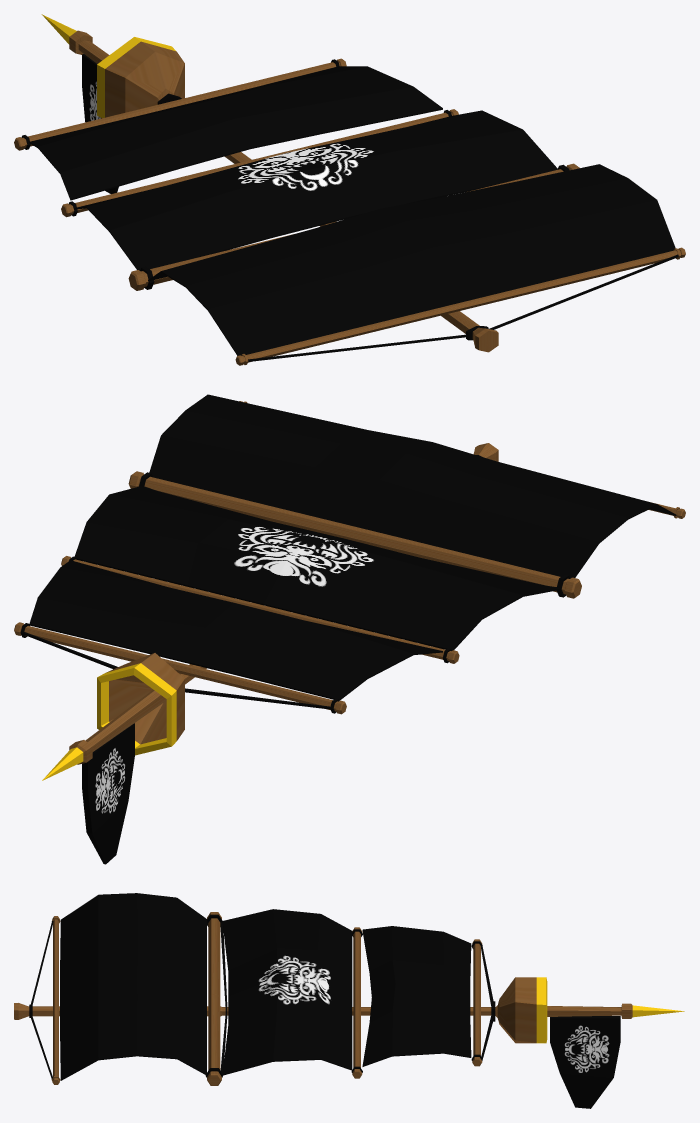
The model's file is sail_a_25.fbx.
3 renders of one model, top to bottom at view 1: azimuth 30°, elevation 25°; view 2: azimuth 150°, elevation 25°; view 3: azimuth 270°, elevation 25°, orthographic. The views are drawn at different scales.
Visible parts, largest first — view 1: Cube.220; view 2: Cube.220; view 3: Cube.220.
Boxes of the visible parts, box(x1,y1,x2,y2) form: Cube.220: box(14, 14, 685, 365); Cube.220: box(14, 394, 685, 864); Cube.220: box(14, 893, 684, 1108).
Bounding box in the file's own units: 229 × 92.21 × 394.
